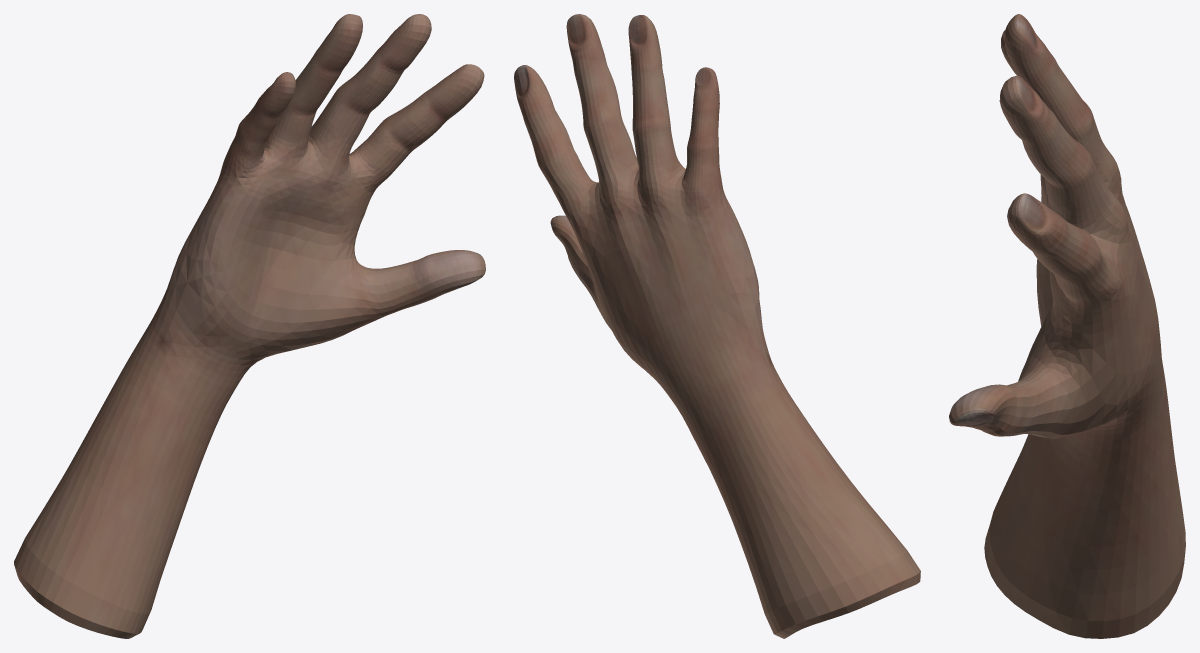
Rendered from 3DPX-001614.glb.
3 renders of one model, left to right at view 1: azimuth 30°, elevation 25°; view 2: azimuth 150°, elevation 25°; view 3: azimuth 270°, elevation 25°, orthographic. The views are drawn at different scales.
Parts seen in each view (by area): view 1: handvertextest-pymesh; view 2: handvertextest-pymesh; view 3: handvertextest-pymesh.
Part boxes in pixels (x1,y1,x2,y2): handvertextest-pymesh: (14,14,485,638); handvertextest-pymesh: (514,14,920,638); handvertextest-pymesh: (949,14,1185,638).
Bounding box in the file's own units: 5.32 × 6.79 × 1.97.
